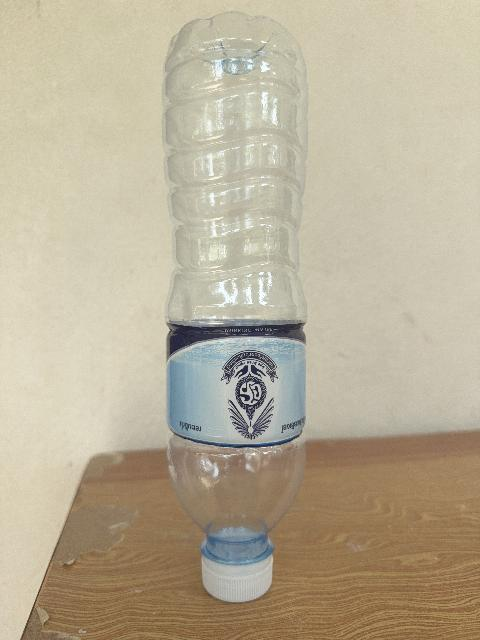bottle: (162, 13, 306, 601)
